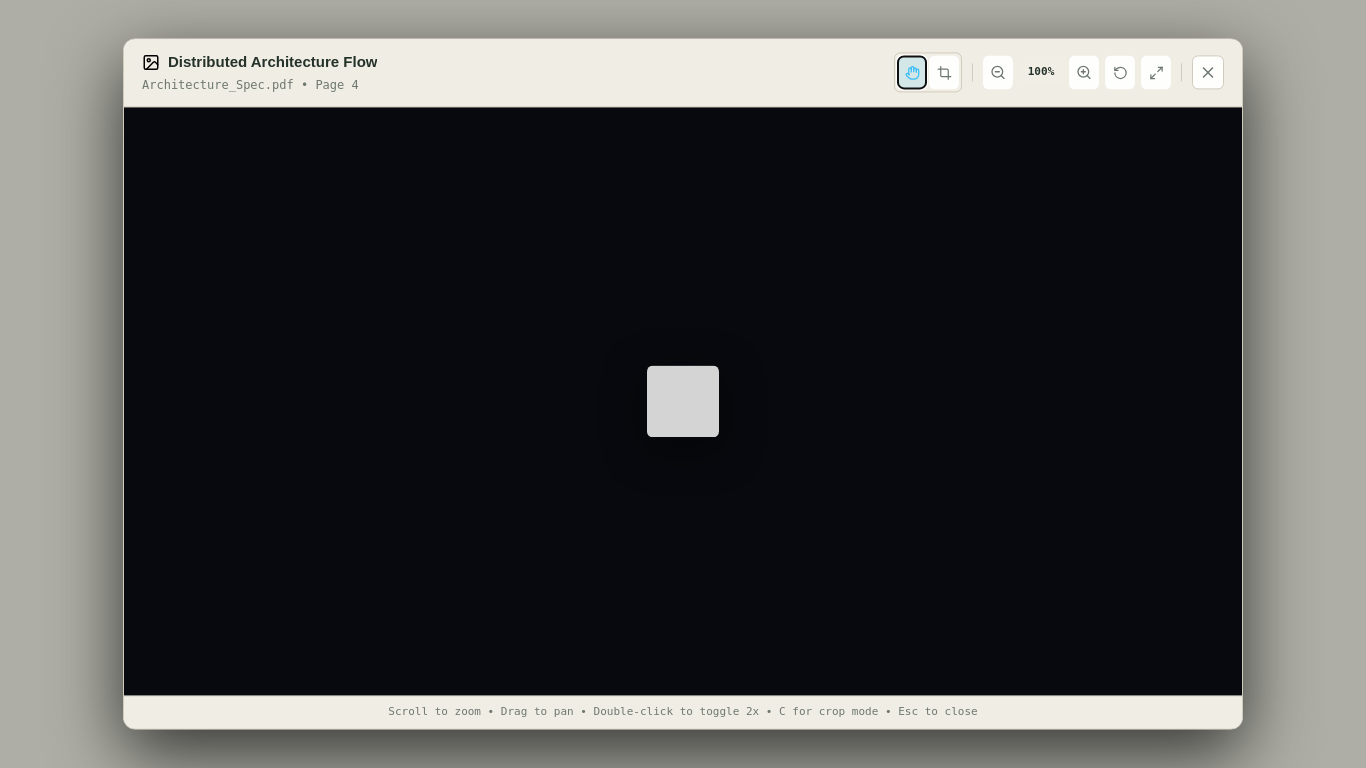
Test: FigureLightboxDialog › zooms in and zooms out using toolbar buttons
# Click Zoom In
Click the button named "Zoom In" at (1084, 73), box [1069,56,1099,90]
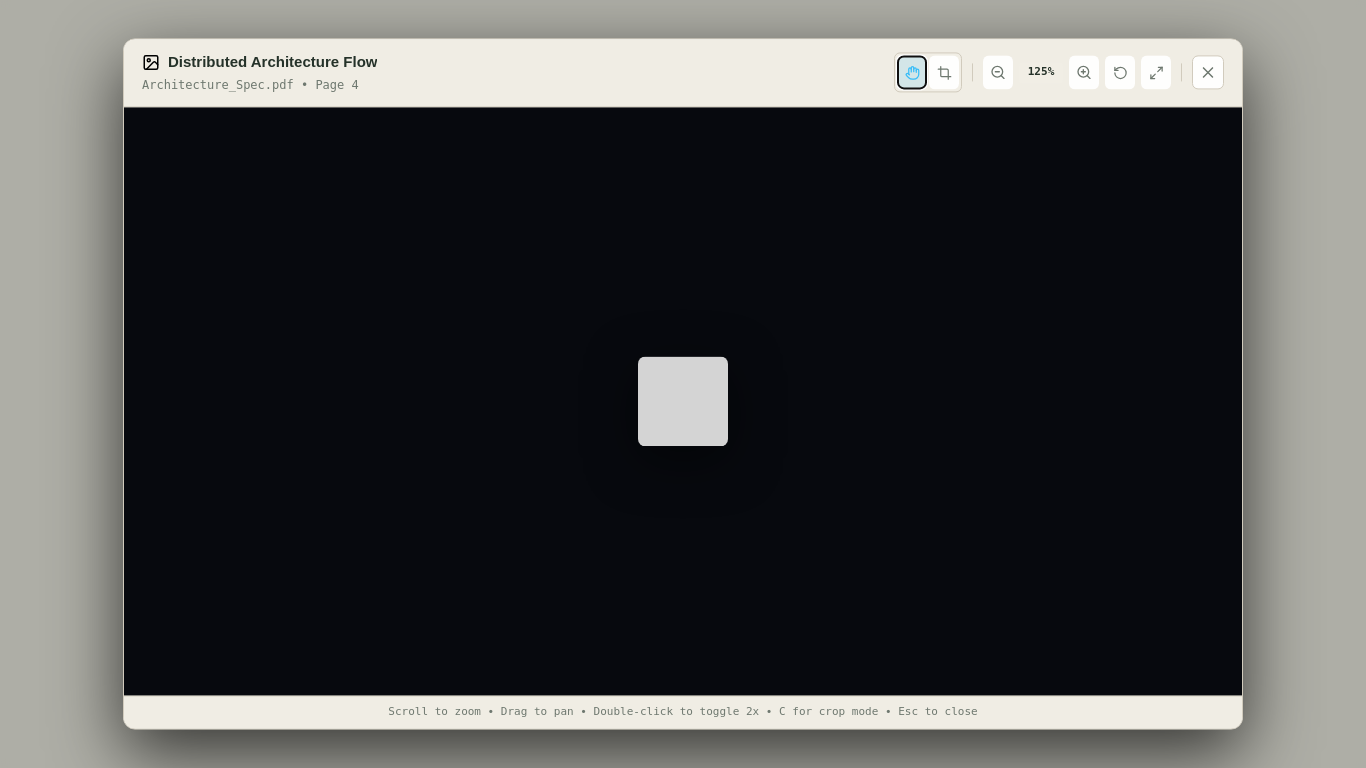
Check: the text "125%" is shown, box [1019,62,1063,83]
Click the button named "Zoom In" at (1084, 73), box [1069,56,1099,90]
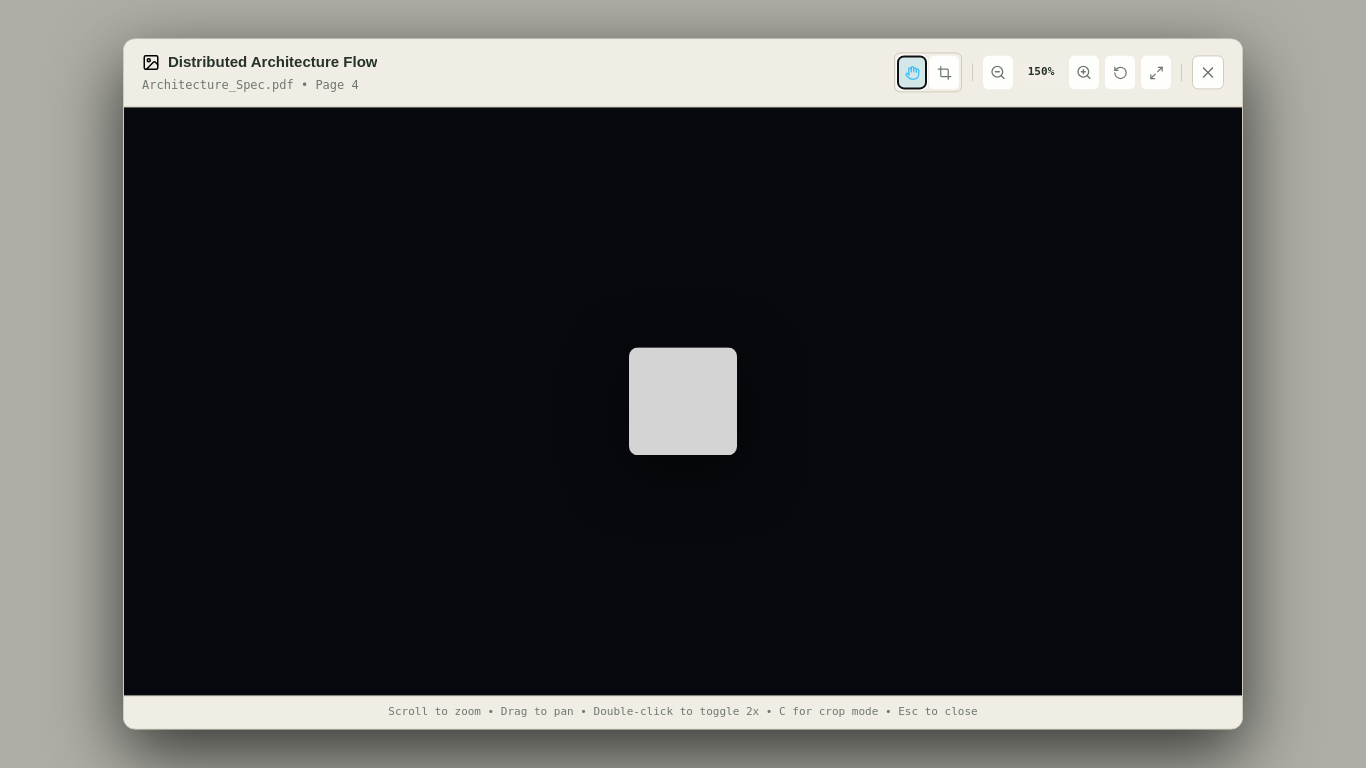
Check: the text "150%" is shown, box [1019,62,1063,83]
# Click Zoom Out
Click the button named "Zoom Out" at (998, 73), box [983,56,1013,90]
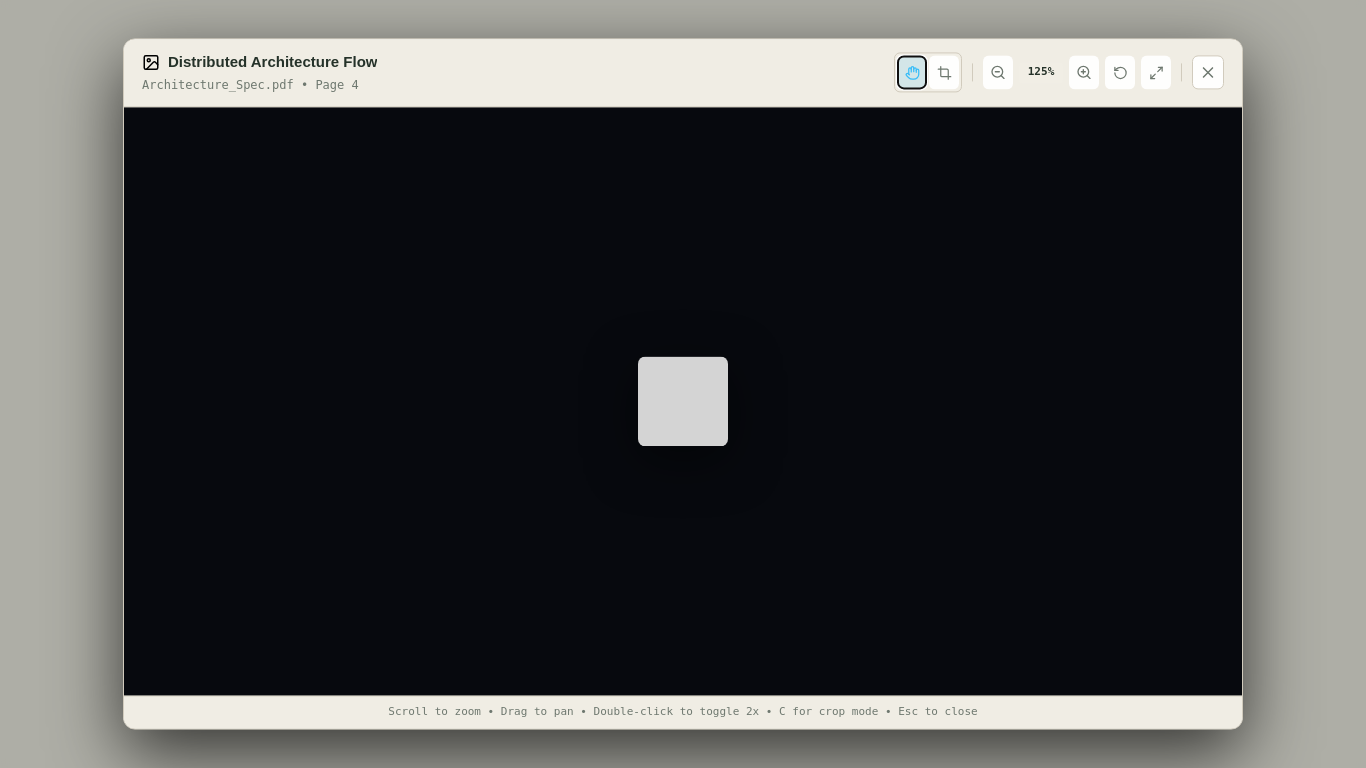
Check: the text "125%" is shown, box [1019,62,1063,83]
